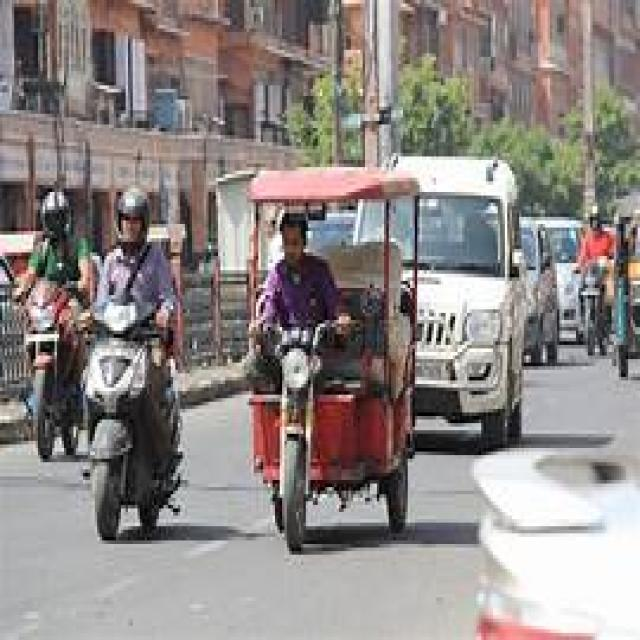Auto: (615, 191, 640, 376)
Two Wheeler: (25, 279, 180, 539), (466, 311, 499, 344)
